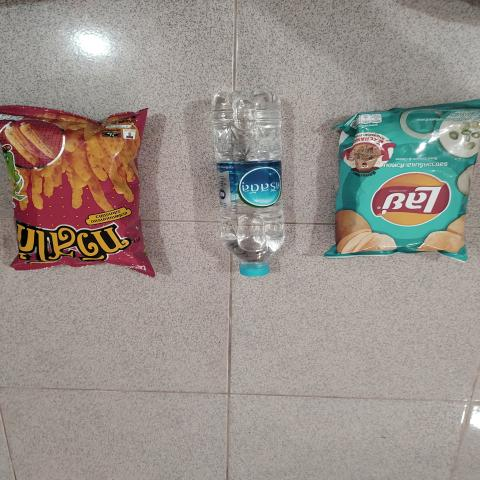crystal: (214, 81, 281, 282)
lay_blue: (340, 109, 468, 257)
twisco: (18, 116, 135, 266)
